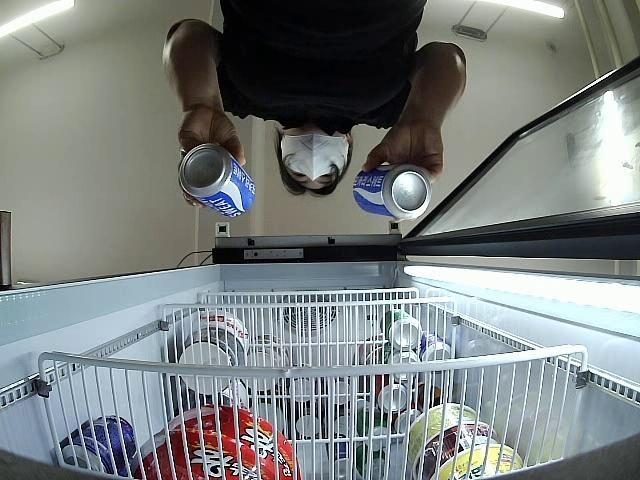13_pocariSweat: (176, 145, 256, 216), (354, 163, 432, 218)
